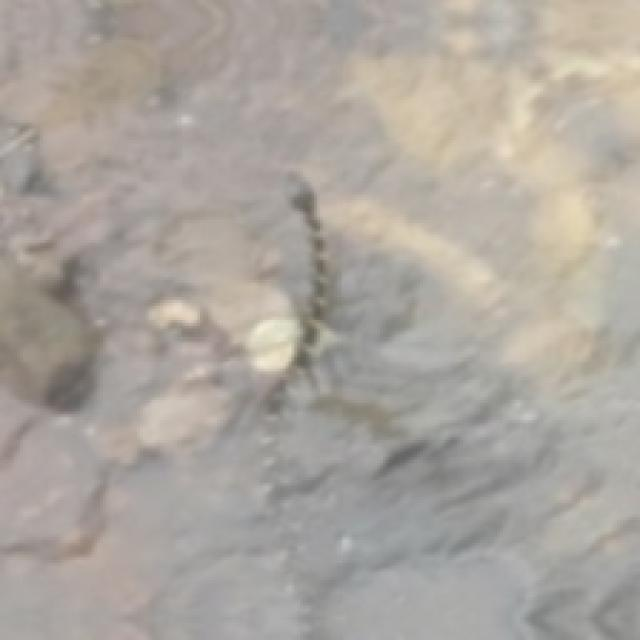mangrove cat snake: (286, 171, 334, 383)
